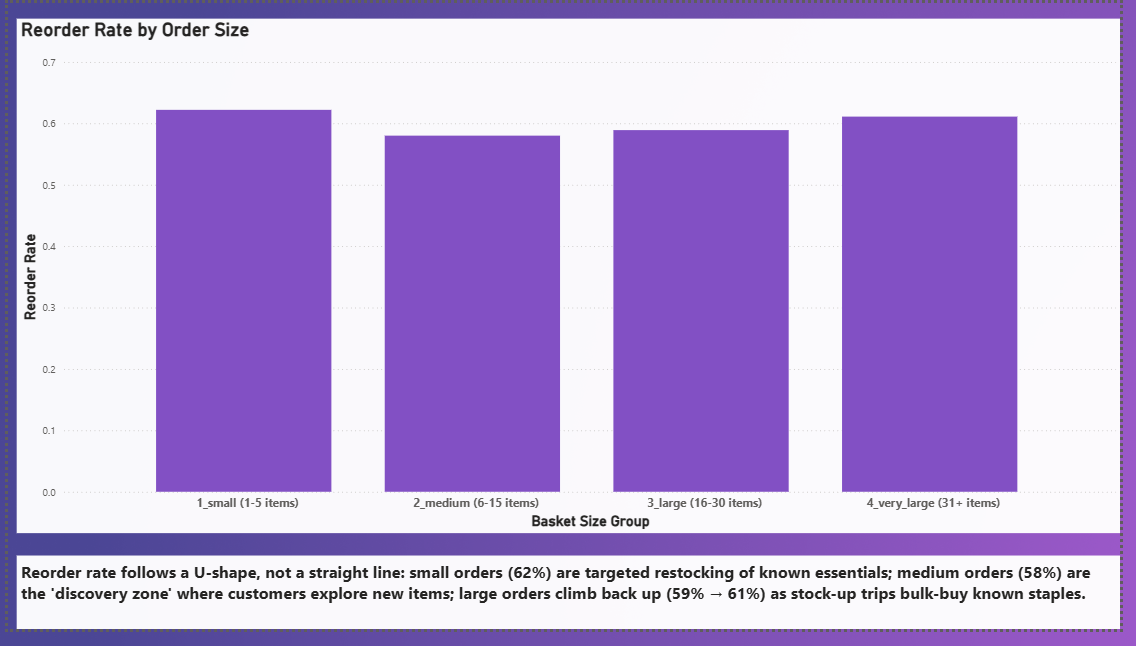

What the dashboard file says about the page in this screenshot:
{"tool":"powerbi","page":{"name":"Q5 - Order Size vs. Reorder Rate","canvas":[1280,720],"ordinal":5},"visuals":[{"type":"clusteredColumnChart","title":"Reorder Rate by Order Size","fields":{"Category":["q5_order_size_reorder.basket_size_group"],"Y":["Avg(q5_order_size_reorder.reorder_rate)"]},"box":[9.5,17.1,1270.7,592.5],"z":0},{"type":"textbox","box":[9.3,635.2,1270.4,85.2],"z":1000}]}

Visuals, with their boxes in screenshot pixels (x1, y1, x2, y2), scaled from the page's 1280x720 canvas onto the 1136x646 screenshot:
"Reorder Rate by Order Size" clusteredColumnChart: [x1=8, y1=15, x2=1135, y2=547]
textbox: [x1=8, y1=570, x2=1135, y2=645]
